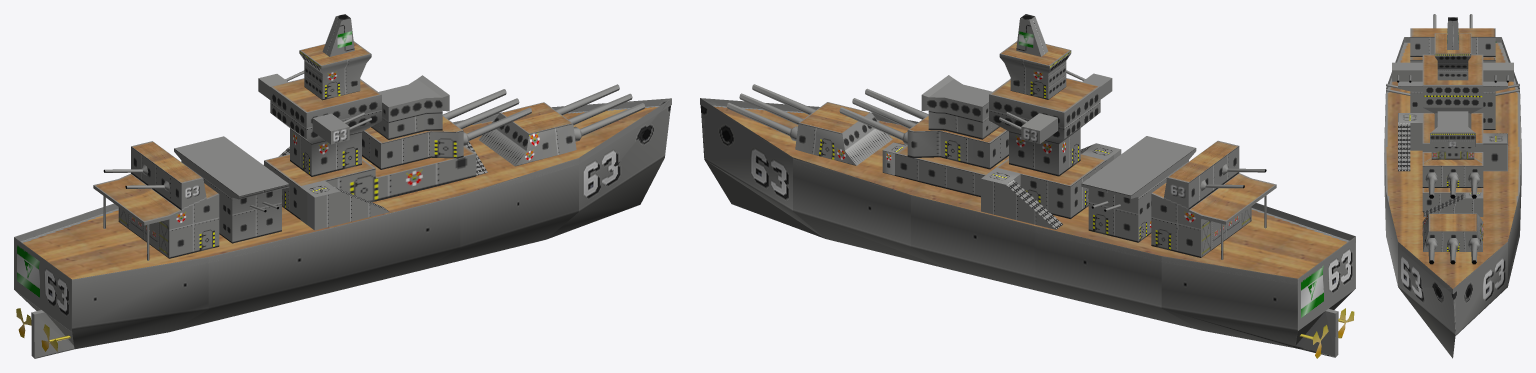
Rendered from anim-girl-battleship.obj.
3 renders of one model, left to right at view 1: azimuth 30°, elevation 25°; view 2: azimuth 150°, elevation 25°; view 3: azimuth 270°, elevation 25°, orthographic. The views are drawn at different scales.
Visible parts, largest first — view 1: Hull, Turret; view 2: Hull, Turret; view 3: Hull, Turret, Gun.
Boxes of the visible parts, bbox=[...] form: Hull: bbox=[14, 14, 671, 358]; Turret: bbox=[479, 84, 645, 166]; Hull: bbox=[700, 14, 1355, 358]; Turret: bbox=[726, 84, 892, 165]; Hull: bbox=[1384, 14, 1521, 358]; Turret: bbox=[1422, 213, 1483, 264]; Gun: bbox=[1447, 238, 1458, 264].
Size of the model in its own units: 3.28 by 1.33 by 0.7258.
Materials: 1 (1 with a texture image).
